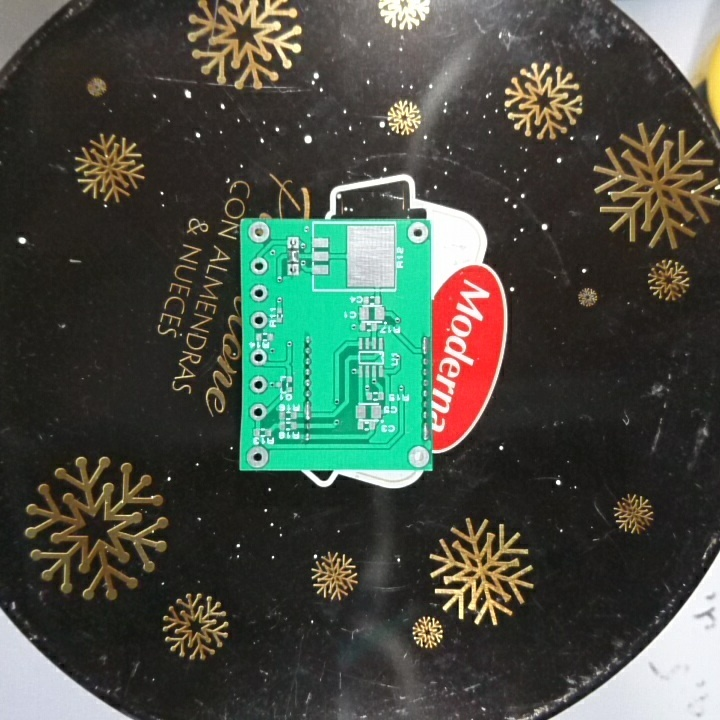F: (244, 443, 273, 470), (246, 219, 273, 246), (247, 370, 270, 400), (404, 444, 431, 469), (405, 220, 430, 246), (247, 309, 270, 332), (247, 346, 270, 369), (248, 282, 270, 306), (247, 402, 270, 423), (248, 255, 268, 278), (283, 232, 301, 251), (284, 262, 301, 280)
P: (418, 332, 432, 356), (419, 420, 432, 442), (301, 398, 314, 420)
